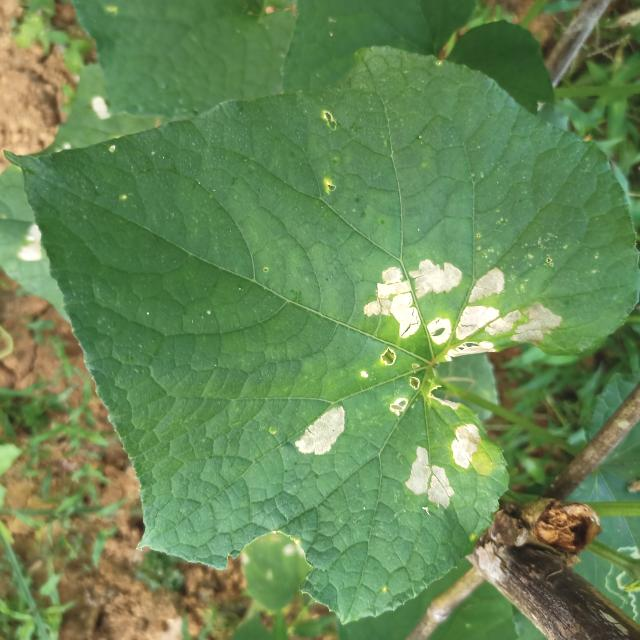disease_cucumber: (362, 257, 564, 372), (403, 445, 455, 515), (294, 402, 348, 458), (447, 419, 483, 470), (386, 372, 425, 419)
